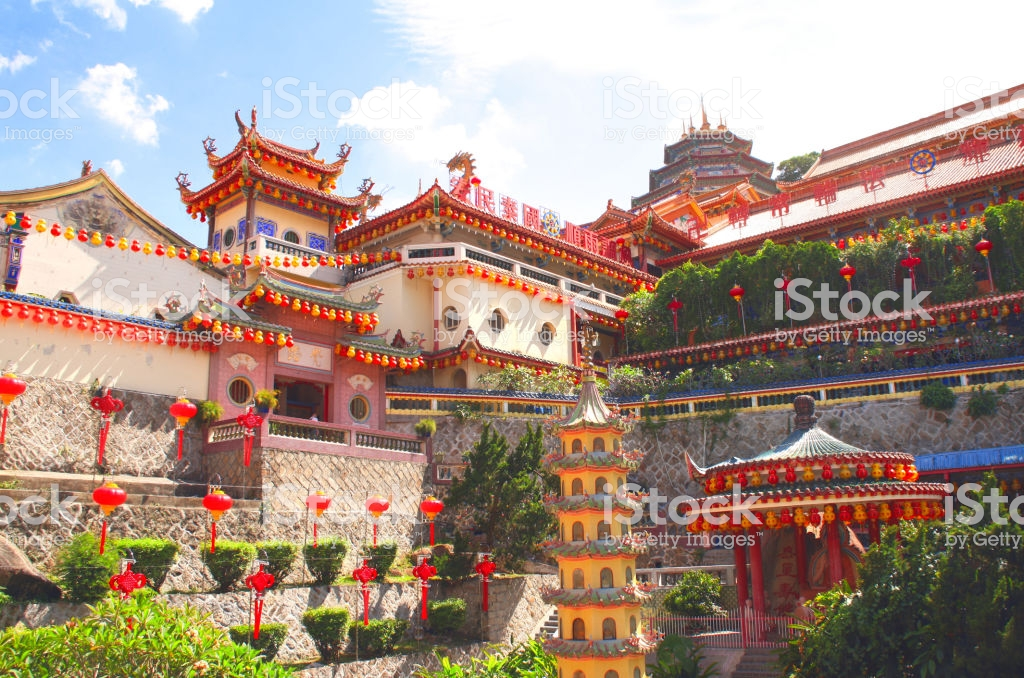Buddhist Temple: (3, 107, 889, 624)
